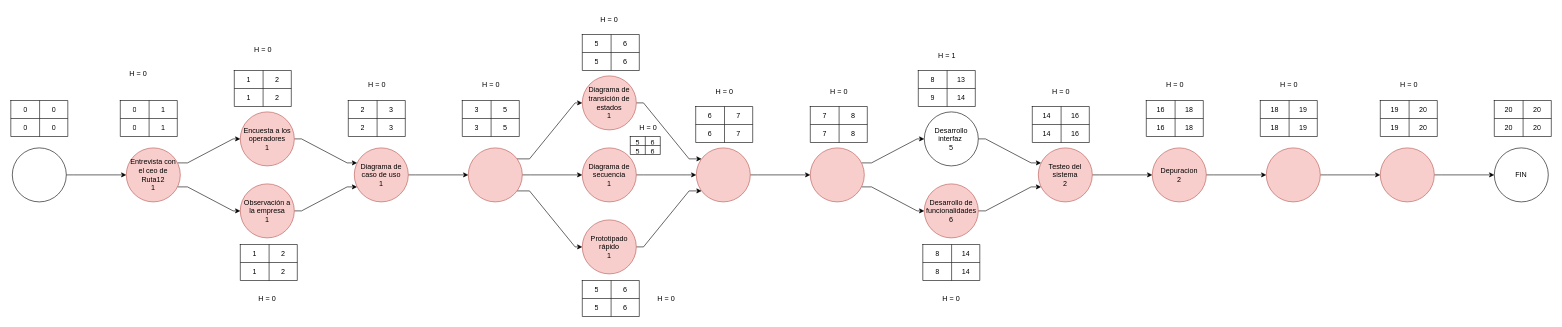
Image size: 1562x327. Some labels were removed from this diagram. Here are the shapes that lost their labels. From the top down, the centre of each, then its label:
point 39,174: INICIO
point 495,174: Descriptivo de caso de uso 2
point 723,174: Diagrama CPM 1
point 837,174: Definir lenguaje y diagrama UML 1
point 1293,174: Implementar sistema 1
point 1407,174: Entregar sistema 1
